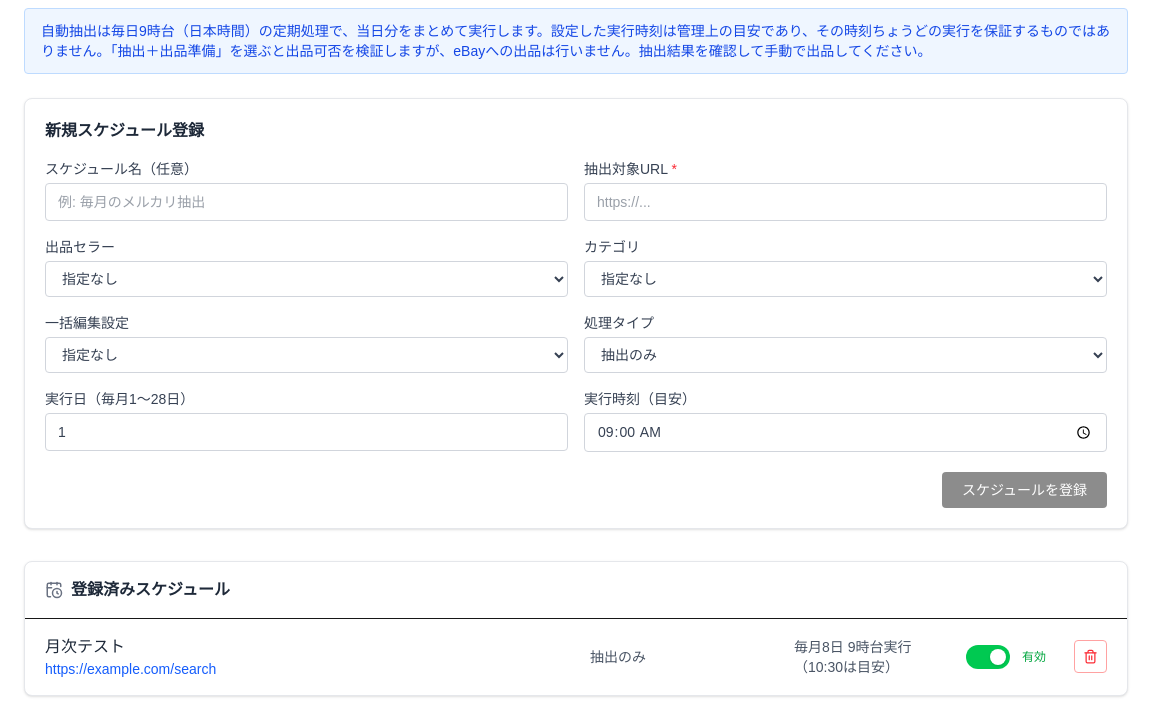
Test: AutoExtractionPageClient › toggles and deletes an existing schedule
(page scrolled)
Expected: the text "月次テスト" is shown, [45, 638, 125, 655]
Click the switch named "月次テストを無効にする" at (988, 657), box [966, 645, 1010, 669]
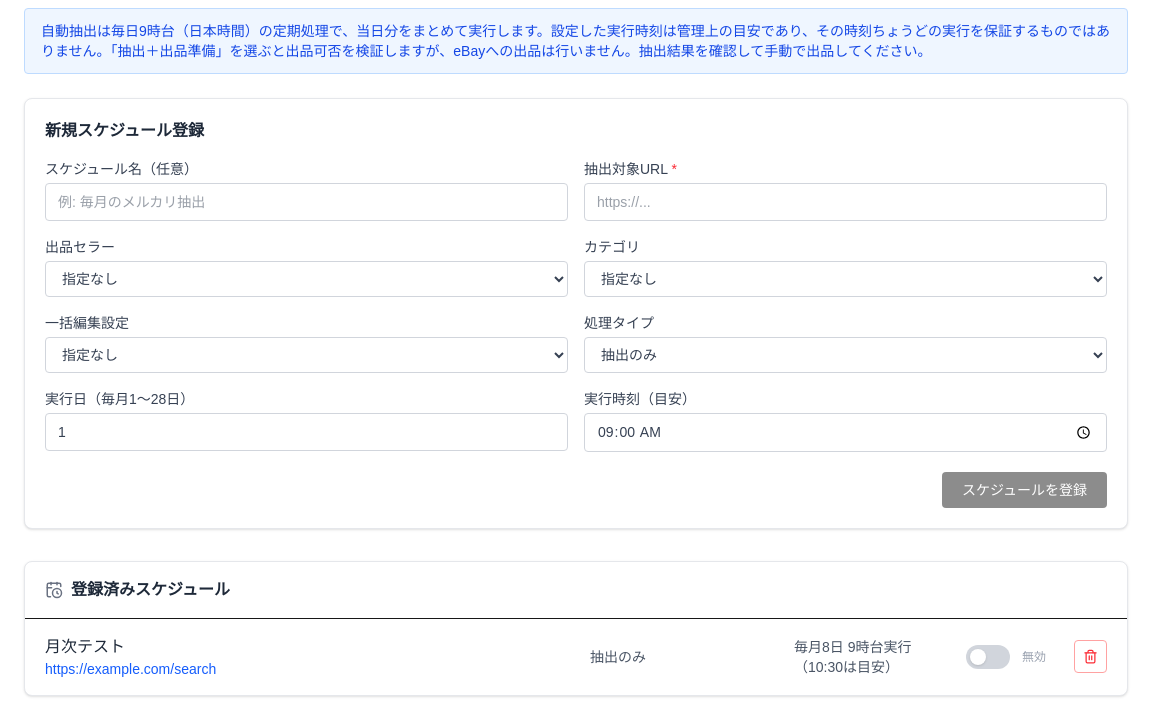
Expected: the text "無効" is shown, [1022, 650, 1046, 664]
Click the button named "月次テストを削除" at (1090, 657), box [1074, 640, 1107, 673]
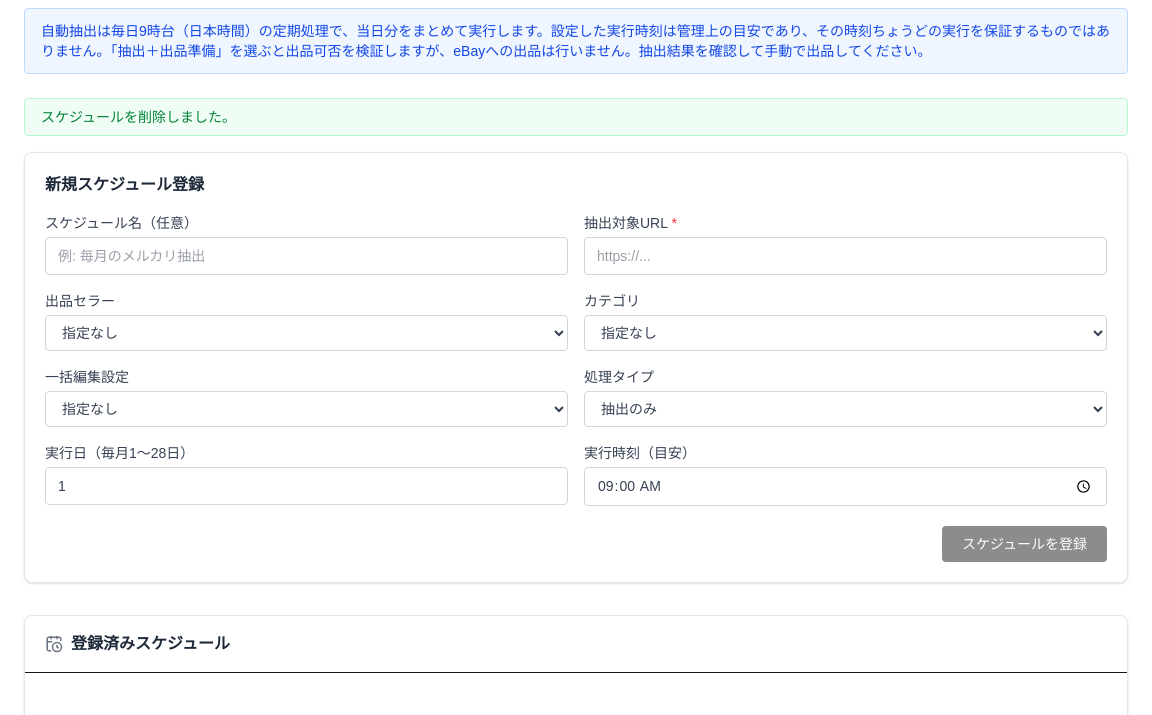
Expected: the text "月次テスト" is gone
